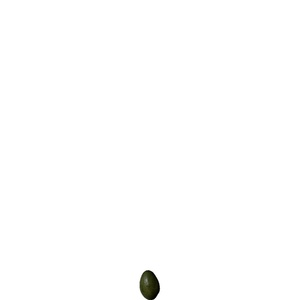abacate: (136, 269, 163, 300)
